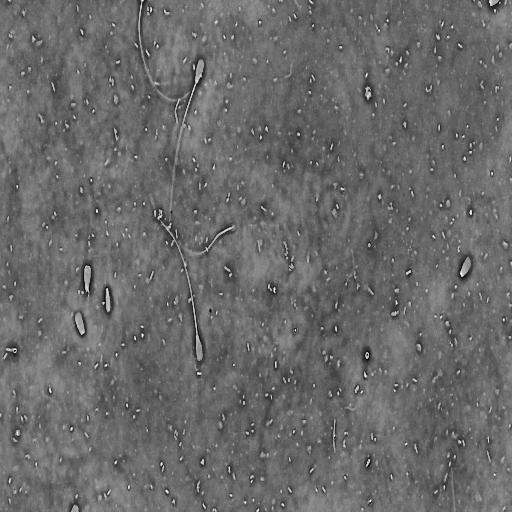dirt-particles: (363, 83, 374, 103), (364, 349, 370, 361)
loose-head: (73, 307, 87, 338), (458, 253, 473, 279), (82, 262, 93, 297), (104, 284, 113, 316)
loose-tail: (136, 0, 193, 107)
normal: (158, 219, 204, 364), (169, 56, 206, 222)
